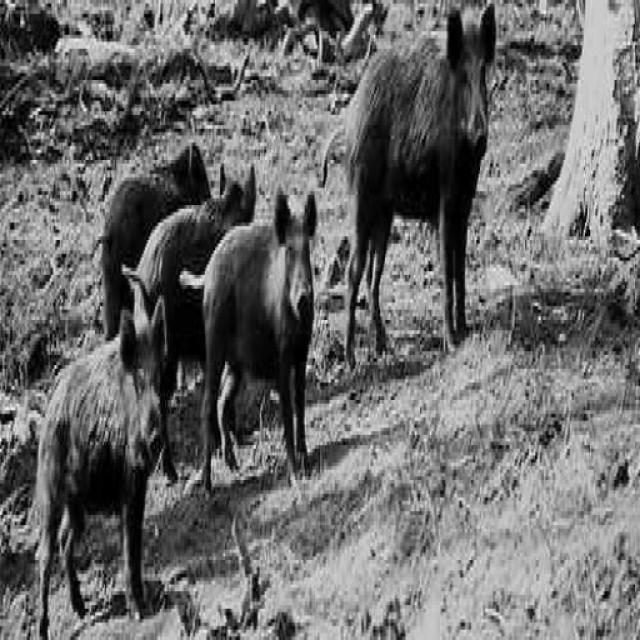pig: (343, 27, 525, 361), (30, 314, 174, 608), (188, 210, 365, 446), (144, 185, 264, 358)
